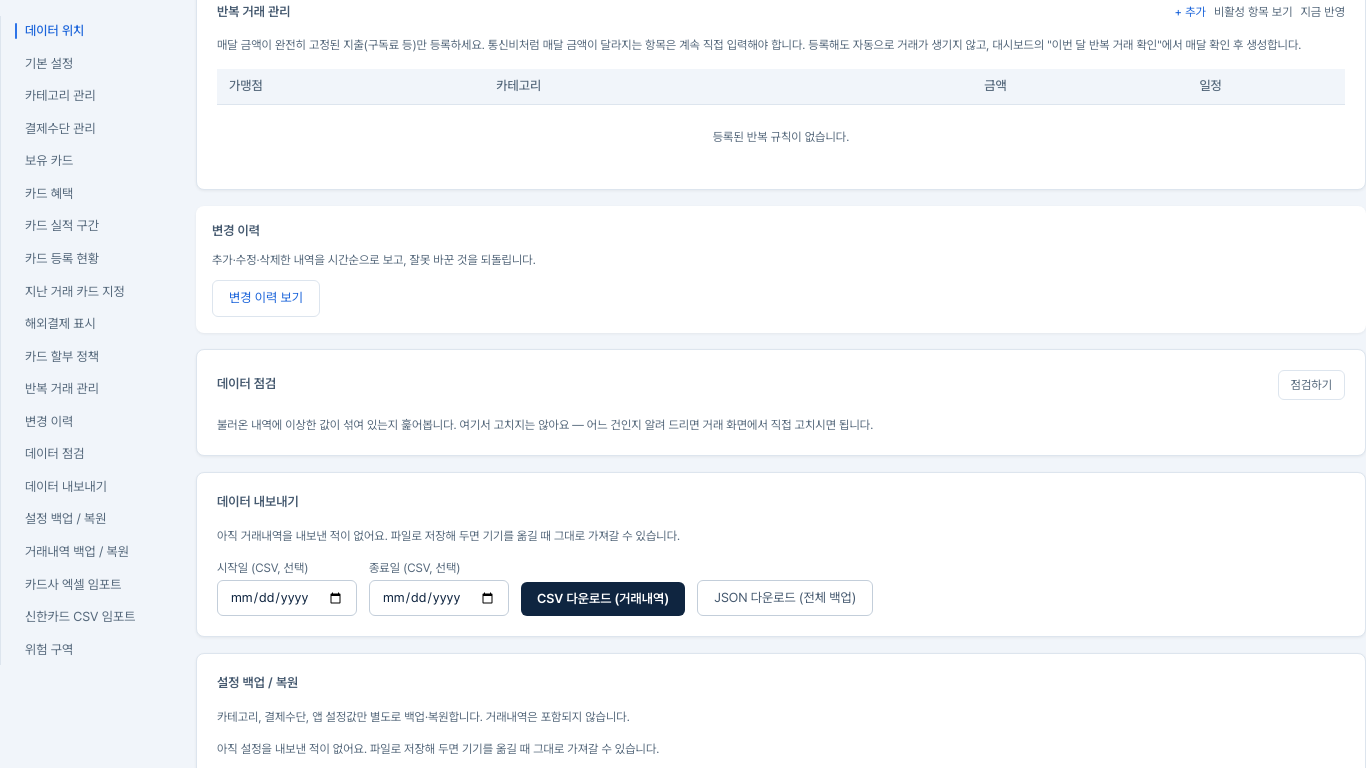
Test case: 데이터 점검 절 › 점검이 실패하면 사유를 보여준다
(page scrolled)
Step 1. Click the button "점검하기" → (1311, 385), box [1278,370,1345,400]
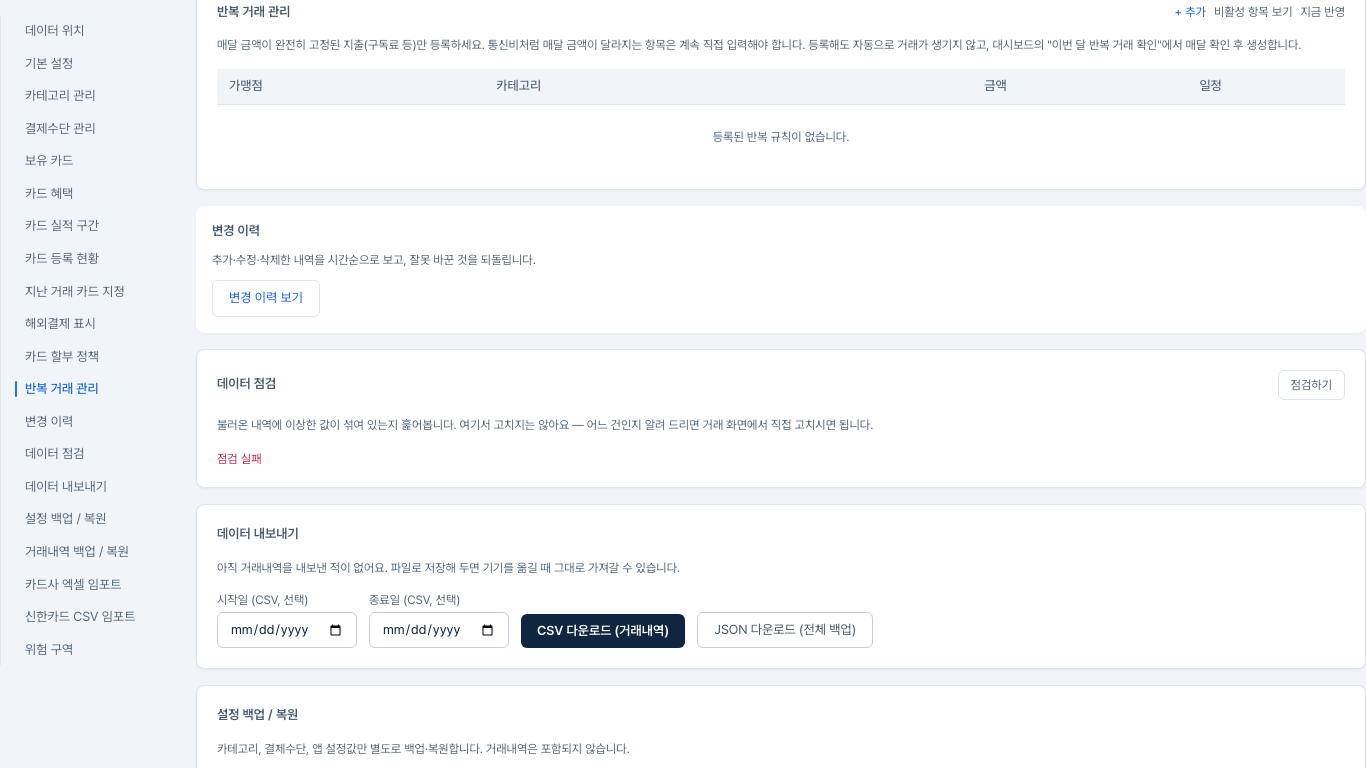
Expected: the text "점검 실패" is shown, [217,452,262,466]
